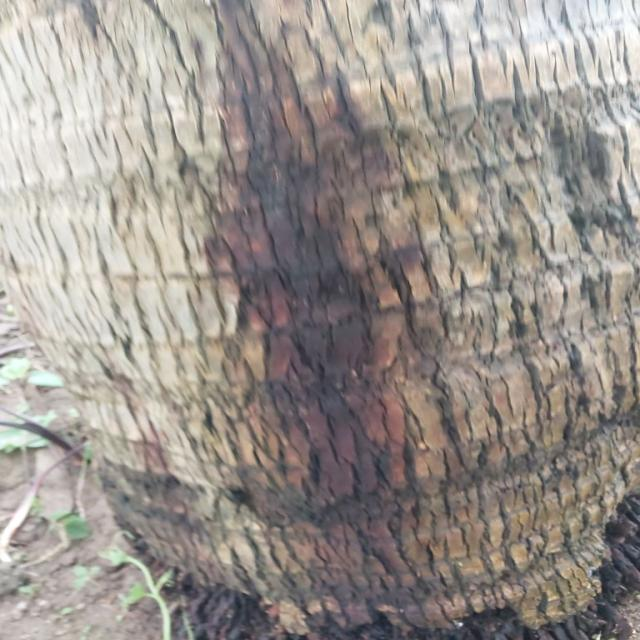stembleeding: (158, 32, 484, 608)
